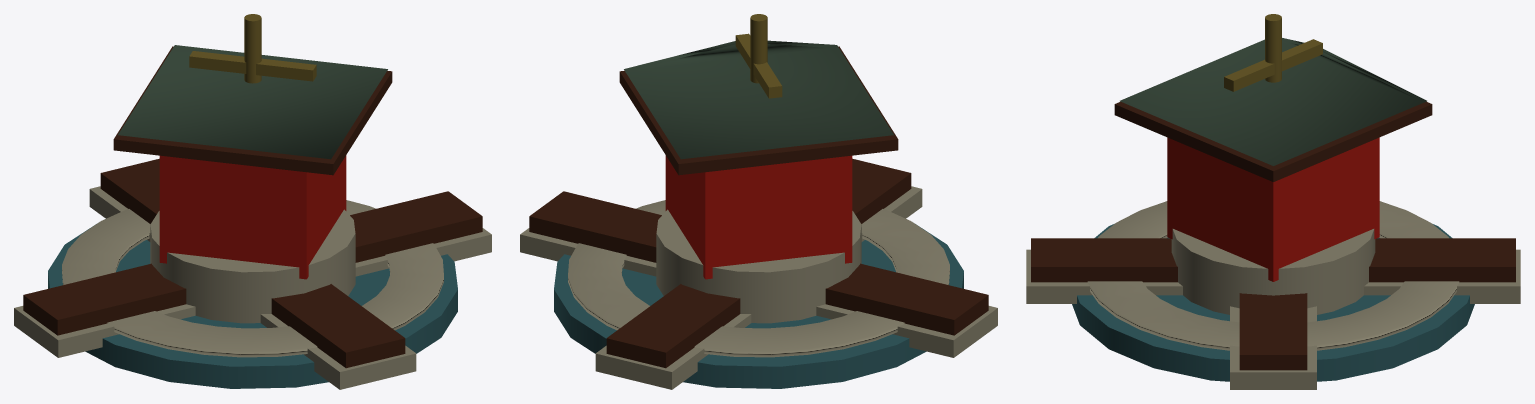
The model's file is Biyong.fbx.
3 views of the same model, side by side, from view 1: azimuth 30°, elevation 25°; view 2: azimuth 150°, elevation 25°; view 3: azimuth 270°, elevation 25° (orthographic).
Parts seen in each view (by area): view 1: central_roof, central_hall_body, ritual_ring, water, central_terrace, east_bridge_deck, north_bridge_deck, west_bridge_deck, central_hall_eave, north_bridge_stone_cap, east_bridge_stone_cap, south_bridge_deck (+4 smaller); view 2: central_roof, central_hall_body, ritual_ring, water, central_terrace, east_bridge_deck, south_bridge_deck, west_bridge_deck, central_hall_eave, south_bridge_stone_cap, east_bridge_stone_cap, north_bridge_deck (+5 smaller); view 3: central_hall_body, central_roof, ritual_ring, water, central_terrace, south_bridge_deck, north_bridge_deck, west_bridge_deck, central_hall_eave, west_bridge_stone_cap, south_bridge_stone_cap, north_bridge_stone_cap (+3 smaller).
Part boxes in pixels (left/top/right/bottom): central_roof: left=118, top=45, right=387, bottom=159; central_hall_body: left=159, top=155, right=346, bottom=279; ritual_ring: left=62, top=200, right=443, bottom=357; water: left=48, top=224, right=457, bottom=388; central_terrace: left=150, top=209, right=355, bottom=323; east_bridge_deck: left=23, top=263, right=186, bottom=335; north_bridge_deck: left=271, top=284, right=405, bottom=368; west_bridge_deck: left=350, top=191, right=482, bottom=262; central_hall_eave: left=113, top=46, right=392, bottom=175; north_bridge_stone_cap: left=260, top=314, right=416, bottom=389; east_bridge_stone_cap: left=14, top=304, right=195, bottom=357; south_bridge_deck: left=100, top=158, right=159, bottom=223; central_roof: left=624, top=40, right=893, bottom=159; central_hall_body: left=665, top=155, right=852, bottom=279; ritual_ring: left=568, top=200, right=949, bottom=357; water: left=554, top=224, right=963, bottom=388; central_terrace: left=656, top=209, right=861, bottom=323; east_bridge_deck: left=825, top=263, right=988, bottom=335; south_bridge_deck: left=606, top=284, right=740, bottom=368; west_bridge_deck: left=529, top=191, right=661, bottom=262; central_hall_eave: left=619, top=46, right=898, bottom=175; south_bridge_stone_cap: left=595, top=314, right=751, bottom=389; east_bridge_stone_cap: left=816, top=304, right=997, bottom=357; north_bridge_deck: left=852, top=158, right=911, bottom=223; central_hall_body: left=1167, top=137, right=1379, bottom=281; central_roof: left=1120, top=38, right=1426, bottom=165; ritual_ring: left=1087, top=201, right=1459, bottom=350; water: left=1072, top=224, right=1474, bottom=381; central_terrace: left=1171, top=229, right=1375, bottom=314; south_bridge_deck: left=1369, top=238, right=1515, bottom=282; north_bridge_deck: left=1031, top=238, right=1177, bottom=282; west_bridge_deck: left=1239, top=293, right=1307, bottom=370; central_hall_eave: left=1114, top=101, right=1432, bottom=181; west_bridge_stone_cap: left=1230, top=306, right=1316, bottom=389; south_bridge_stone_cap: left=1364, top=249, right=1520, bottom=303; north_bridge_stone_cap: left=1026, top=249, right=1182, bottom=303.
Size of the model in its own units: 102 by 65 by 102.
